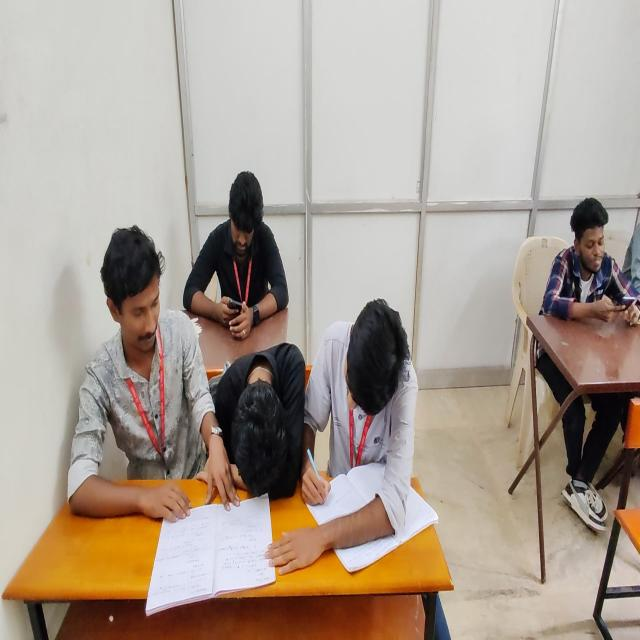sleeping: (204, 323, 312, 499)
turning: (67, 226, 234, 523), (277, 297, 418, 576)
using_mobile: (534, 194, 638, 523), (182, 169, 292, 335)
